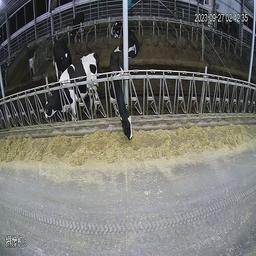cow: (41, 54, 100, 124), (110, 43, 134, 139), (52, 39, 77, 68), (71, 10, 87, 39), (128, 24, 139, 58), (111, 16, 122, 38)
